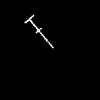double_crochet: (25, 15, 52, 47)
